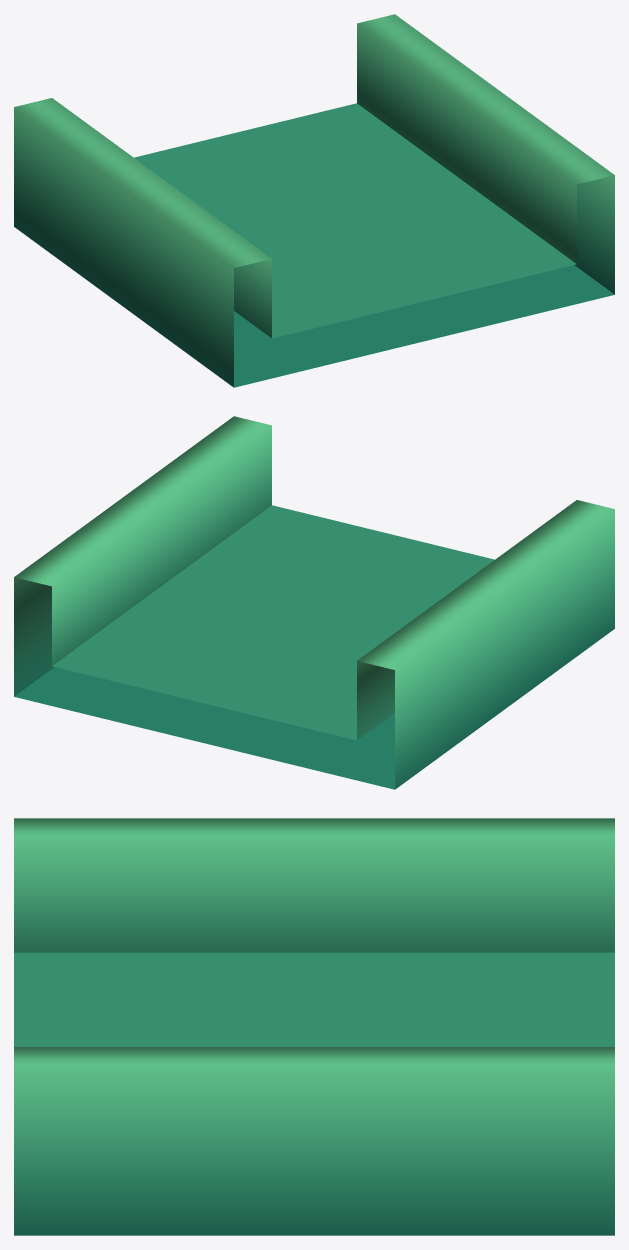
The model's file is track-narrow.fbx.
3 renders of one model, top to bottom at view 1: azimuth 30°, elevation 25°; view 2: azimuth 150°, elevation 25°; view 3: azimuth 270°, elevation 25°, orthographic. The views are drawn at different scales.
Parts seen in each view (by area): view 1: track-narrow; view 2: track-narrow; view 3: track-narrow.
Part boxes in pixels (x1=…): track-narrow: x1=14, y1=14, x2=614, y2=387; track-narrow: x1=14, y1=416, x2=614, y2=789; track-narrow: x1=14, y1=818, x2=614, y2=1235.
Size of the model in its own units: 100 by 30 by 100.
